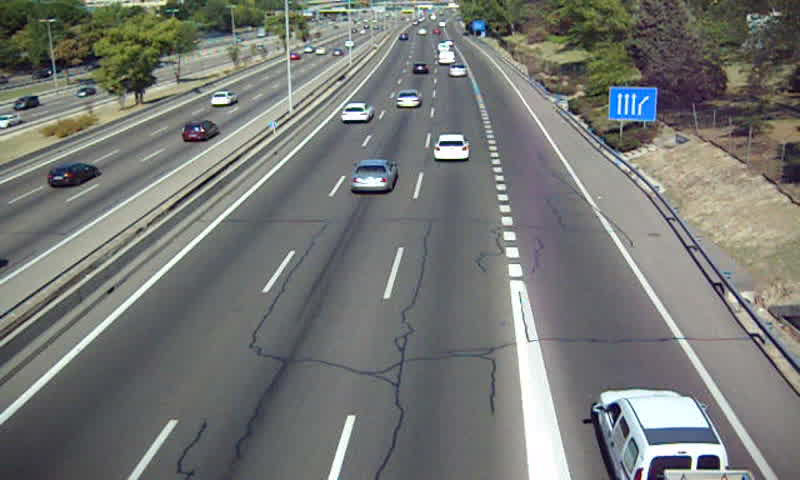car: (351, 160, 396, 193), (433, 134, 470, 162), (341, 103, 372, 123), (395, 90, 423, 110), (449, 64, 468, 78), (410, 62, 429, 76)
van: (595, 389, 727, 480)
